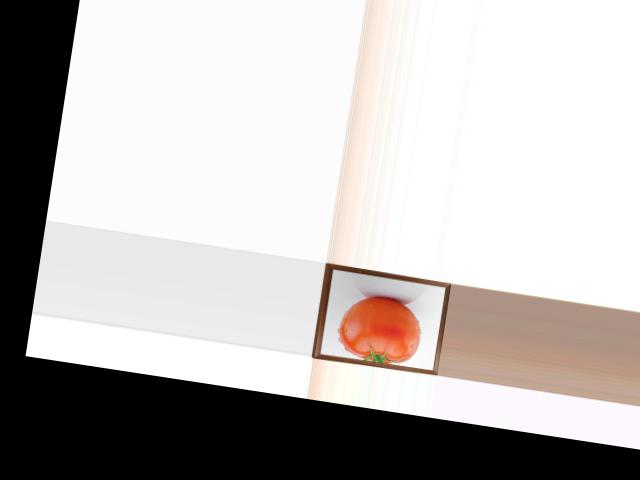tomato: (334, 291, 424, 368)
